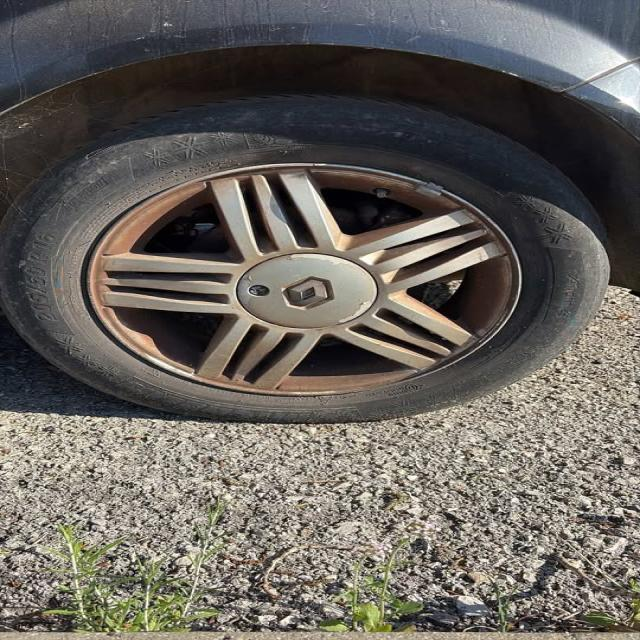jante: (86, 162, 524, 398)
roda: (0, 91, 608, 423)
